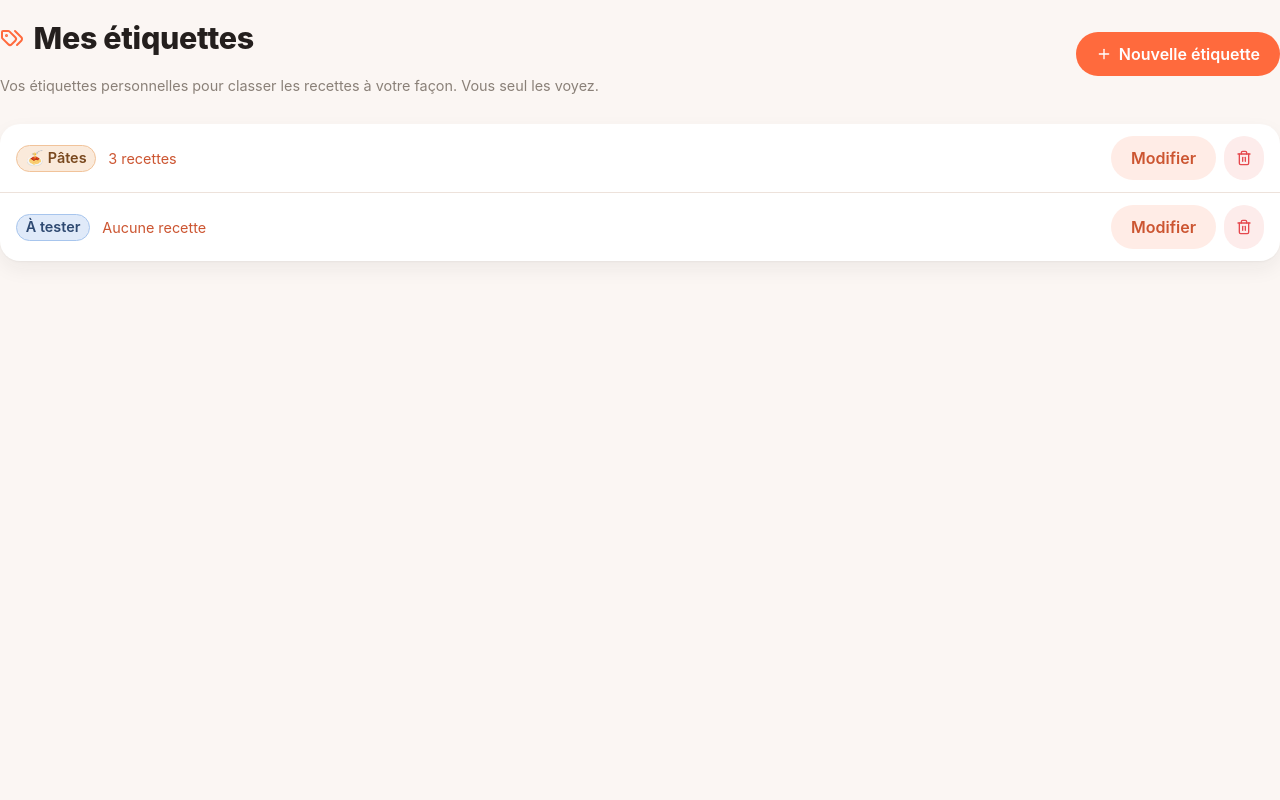
PersonalTagsView › reports a duplicate name
Click the button "Nouvelle étiquette" at (1178, 54), box top-left (1076, 32), bottom-right (1279, 76)
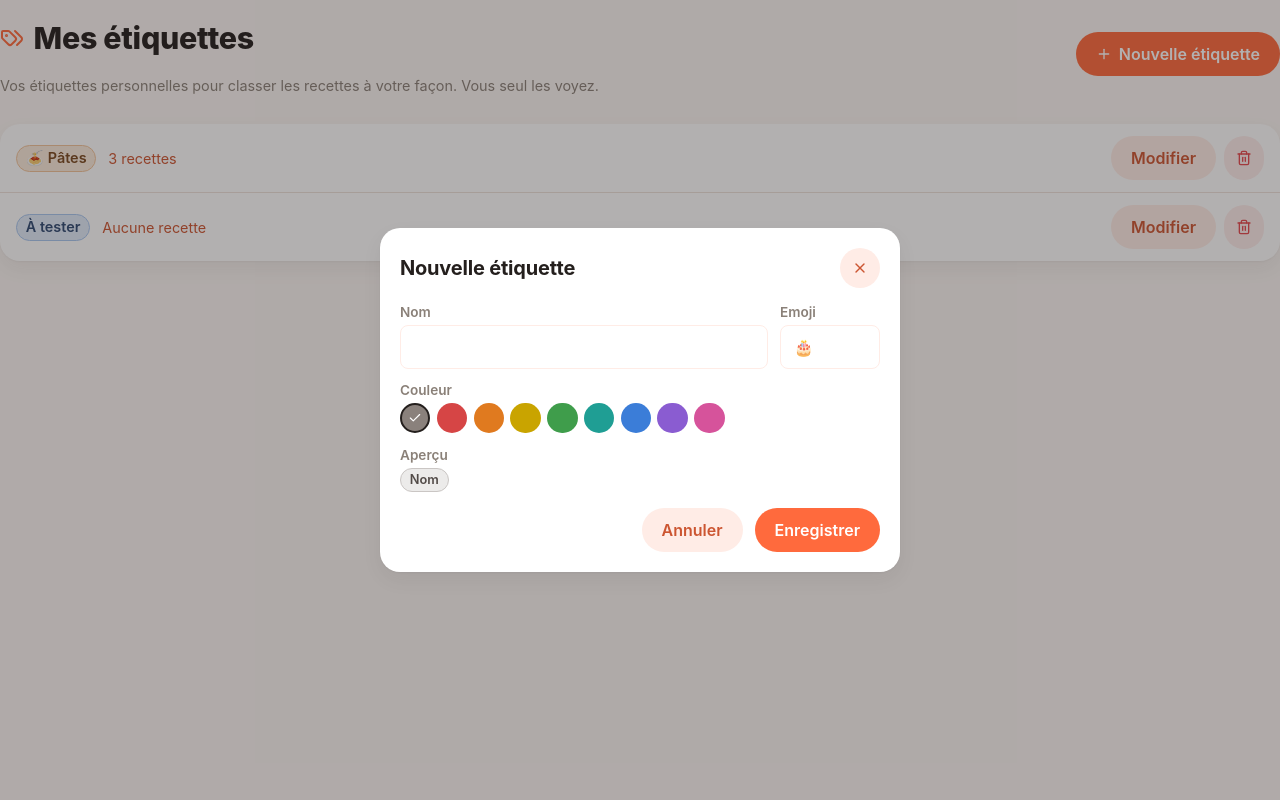
Type "pâtes" into the field labelled "Nom" at (584, 347), box top-left (400, 325), bottom-right (768, 369)
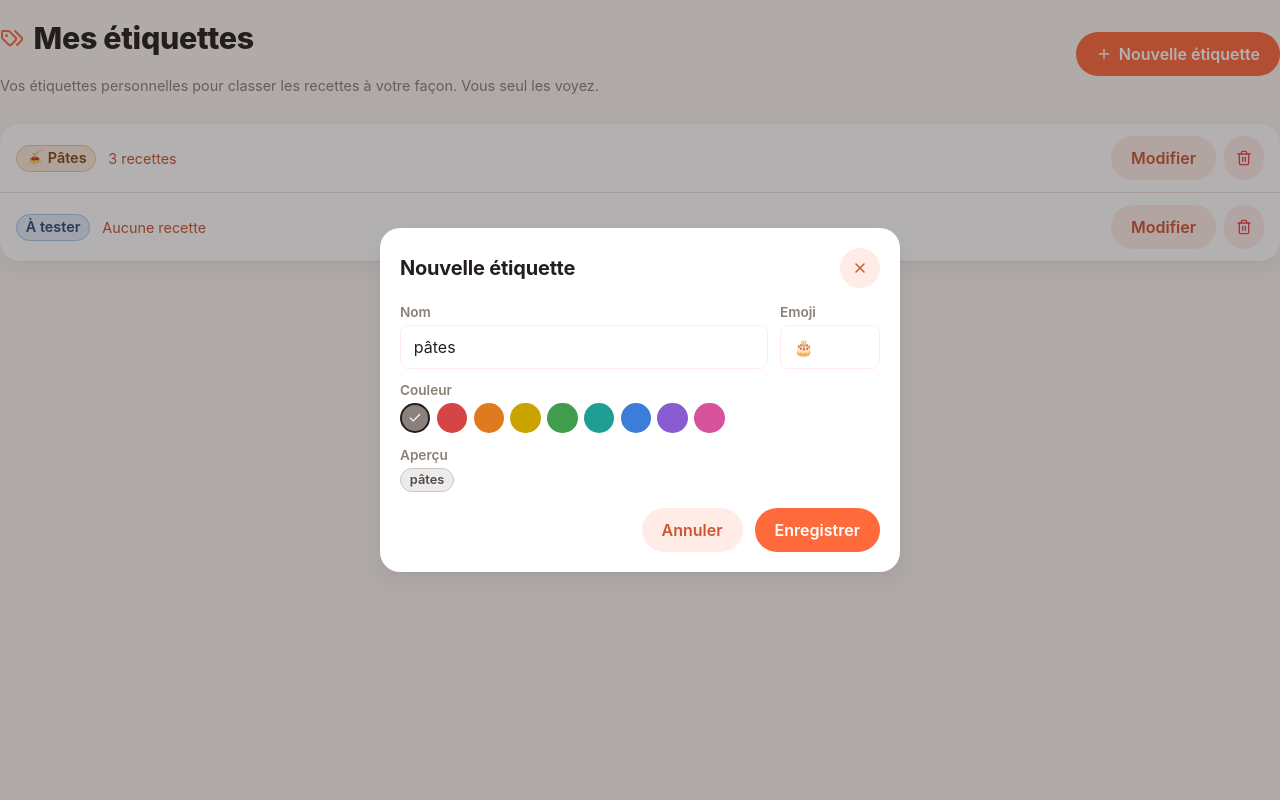
Submit the form, box top-left (400, 304), bottom-right (880, 552)
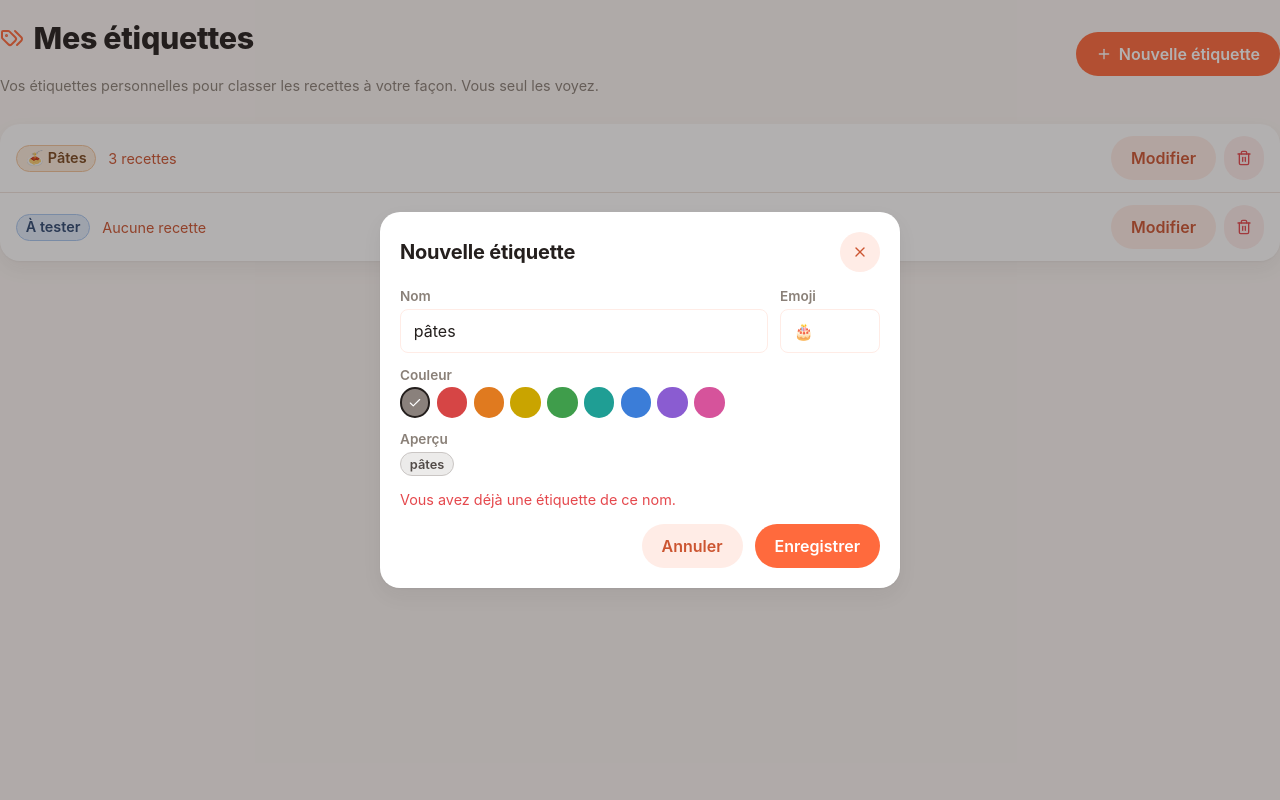
Now the text with class "error" reads "Vous avez déjà une étiquette de ce nom.", box top-left (400, 491), bottom-right (676, 508)
